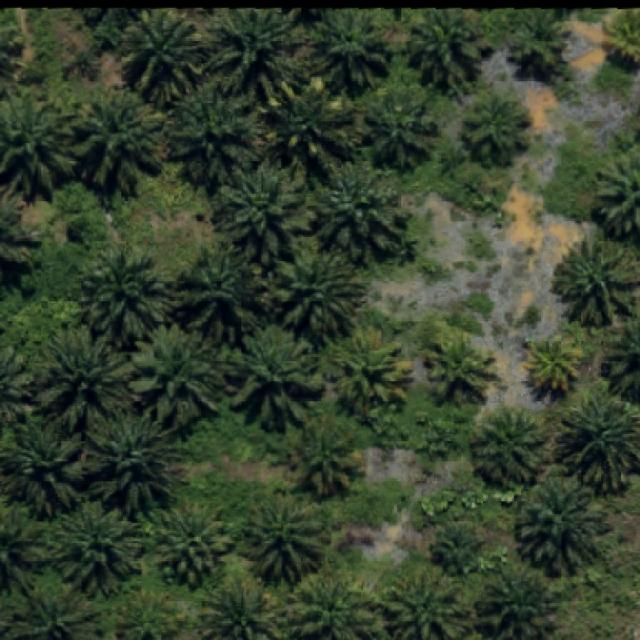Kelapa_Sawit: (34, 325, 141, 438), (172, 239, 276, 352), (225, 322, 328, 433), (85, 408, 186, 520), (210, 164, 312, 270), (271, 240, 371, 348), (128, 322, 227, 431), (46, 496, 149, 599), (68, 90, 166, 198), (260, 75, 358, 177), (78, 244, 172, 350), (313, 168, 415, 264), (163, 91, 259, 192), (211, 8, 311, 104), (516, 476, 610, 578), (123, 7, 212, 110), (549, 234, 640, 331), (236, 492, 326, 586), (331, 328, 417, 424), (148, 500, 234, 591), (406, 10, 494, 96), (308, 10, 394, 95), (471, 403, 551, 492), (361, 88, 441, 175), (288, 412, 362, 502), (423, 326, 499, 408), (462, 92, 533, 170), (506, 8, 574, 83), (522, 332, 584, 397), (429, 521, 489, 579)
